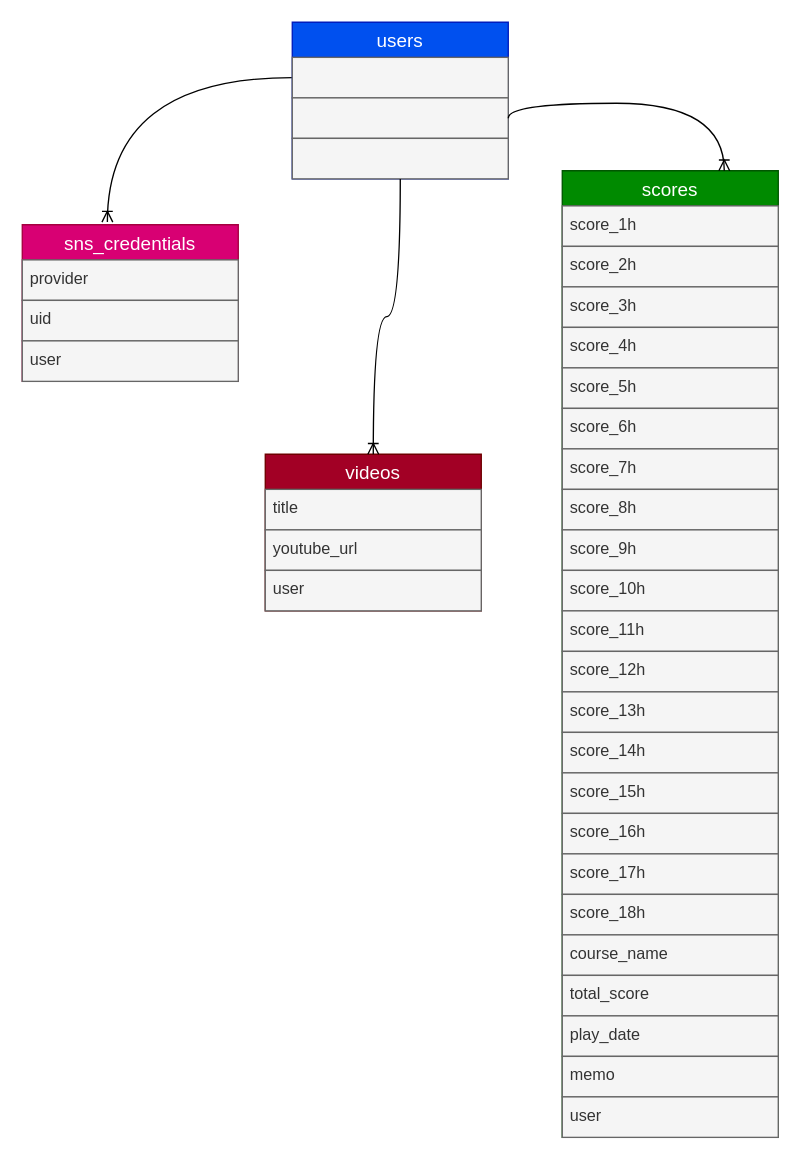
Image size: 801x1160. Some labels were removed from this diagram. The shapes that lost their labels are listed below. From the top down, each one's centre as x and y in pixels, then its label:
At point (399, 77): "email".
At point (399, 117): "encrypted_password".
At point (399, 158): "nickname".
